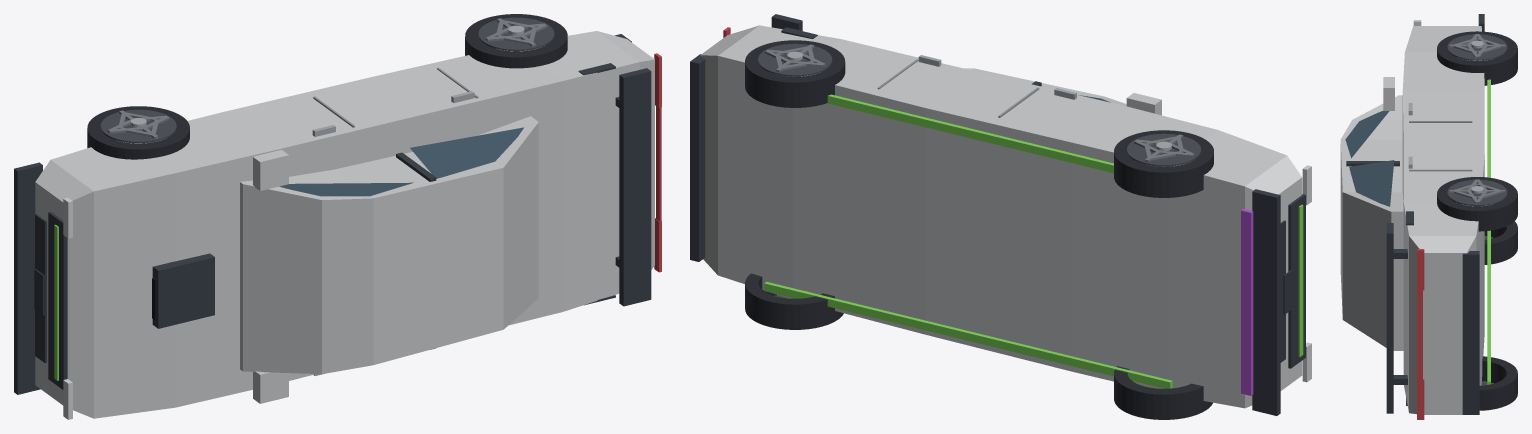
Rendered from TYSSCAT_2017_Daytona_392.glb.
The picture shows the model from 3 angles, left to right: view 1: azimuth 30°, elevation 25°; view 2: azimuth 150°, elevation 25°; view 3: azimuth 270°, elevation 25°; orthographic projection. The views are drawn at different scales.
Visible parts, largest first — view 1: Daytona_392_sculpted_body, roof_glasshouse, Daytona_rear_spoiler, front_splitter, hood_scoop, rear_side_window_1, black_performance_tire_3, front_black_grille, black_performance_tire_1, lower_air_intake, front_side_window_1, black_multispoke_rim_1 (+5 smaller); view 2: Daytona_392_sculpted_body, front_splitter, green_side_underglow, black_performance_tire_1, black_performance_tire_3, rear_diffuser, black_performance_tire_2, black_performance_tire, green_side_underglow_1, purple_front_underglow, front_black_grille, black_multispoke_rim_1 (+4 smaller); view 3: Daytona_392_sculpted_body, roof_glasshouse, rear_diffuser, black_performance_tire_3, black_performance_tire_1, black_performance_tire_2, Daytona_rear_spoiler, rear_side_window_1, black_performance_tire, black_multispoke_rim_1, black_multispoke_rim_3, front_side_window_1 (+8 smaller).
Boxes of the visible parts, left/top/right/bottom form: Daytona_392_sculpted_body: left=35, top=31, right=654, bottom=418; roof_glasshouse: left=240, top=116, right=538, bottom=374; Daytona_rear_spoiler: left=619, top=68, right=651, bottom=306; front_splitter: left=14, top=162, right=42, bottom=394; hood_scoop: left=152, top=253, right=214, bottom=328; rear_side_window_1: left=410, top=127, right=523, bottom=178; black_performance_tire_3: left=465, top=14, right=567, bottom=68; front_black_grille: left=48, top=211, right=67, bottom=389; black_performance_tire_1: left=87, top=106, right=189, bottom=159; lower_air_intake: left=35, top=214, right=46, bottom=363; front_side_window_1: left=279, top=182, right=413, bottom=196; black_multispoke_rim_1: left=100, top=109, right=176, bottom=143; Daytona_392_sculpted_body: left=700, top=25, right=1302, bottom=408; front_splitter: left=1252, top=189, right=1280, bottom=415; green_side_underglow: left=764, top=281, right=1172, bottom=388; black_performance_tire_1: left=1114, top=130, right=1213, bottom=197; black_performance_tire_3: left=745, top=40, right=845, bottom=107; rear_diffuser: left=690, top=54, right=705, bottom=261; black_performance_tire_2: left=745, top=273, right=843, bottom=329; black_performance_tire: left=1114, top=366, right=1212, bottom=419; green_side_underglow_1: left=827, top=94, right=1113, bottom=173; purple_front_underglow: left=1241, top=209, right=1253, bottom=395; front_black_grille: left=1288, top=194, right=1305, bottom=368; black_multispoke_rim_1: left=1127, top=133, right=1201, bottom=166; Daytona_392_sculpted_body: left=1402, top=26, right=1484, bottom=414; roof_glasshouse: left=1340, top=95, right=1403, bottom=350; rear_diffuser: left=1462, top=251, right=1479, bottom=414; black_performance_tire_3: left=1437, top=177, right=1517, bottom=231; black_performance_tire_1: left=1437, top=31, right=1517, bottom=85; black_performance_tire_2: left=1479, top=356, right=1517, bottom=410; Daytona_rear_spoiler: left=1386, top=223, right=1393, bottom=413; rear_side_window_1: left=1349, top=160, right=1394, bottom=206; black_performance_tire: left=1484, top=221, right=1517, bottom=264; black_multispoke_rim_1: left=1447, top=34, right=1507, bottom=60; black_multispoke_rim_3: left=1447, top=179, right=1507, bottom=206; front_side_window_1: left=1345, top=111, right=1389, bottom=158.
Bounding box in the file's own units: 5.24 × 2.2 × 1.69.
